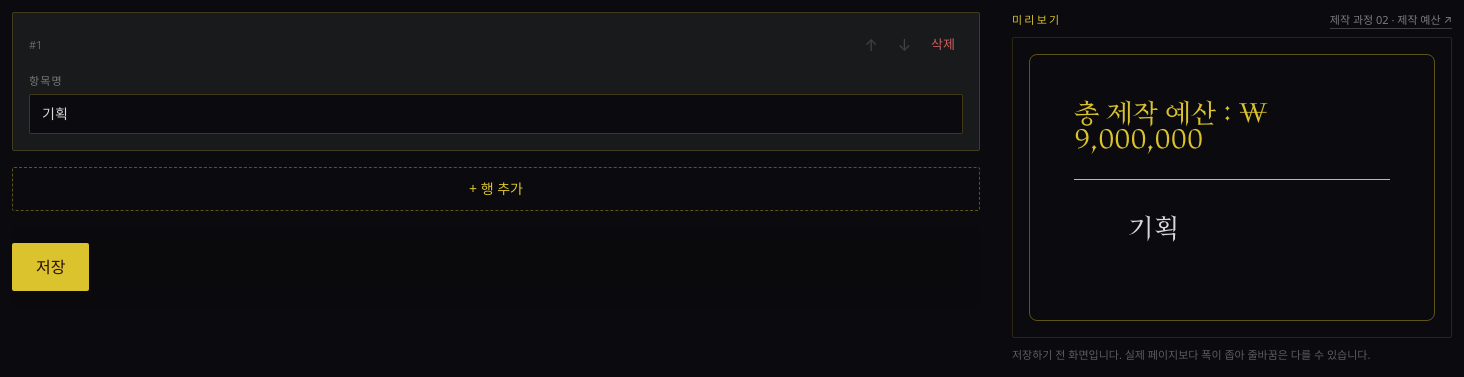
it: ListPreview — 편집 중인 값을 그대로 그린다 › 저장하지 않아도 입력한 값이 미리보기에 바로 나온다
Expected: the list item "기획" is shown, [1127,208,1179,245]
Step 1. Replace the text in the field with "무대 제작" → (496, 114), box [29,94,963,134]
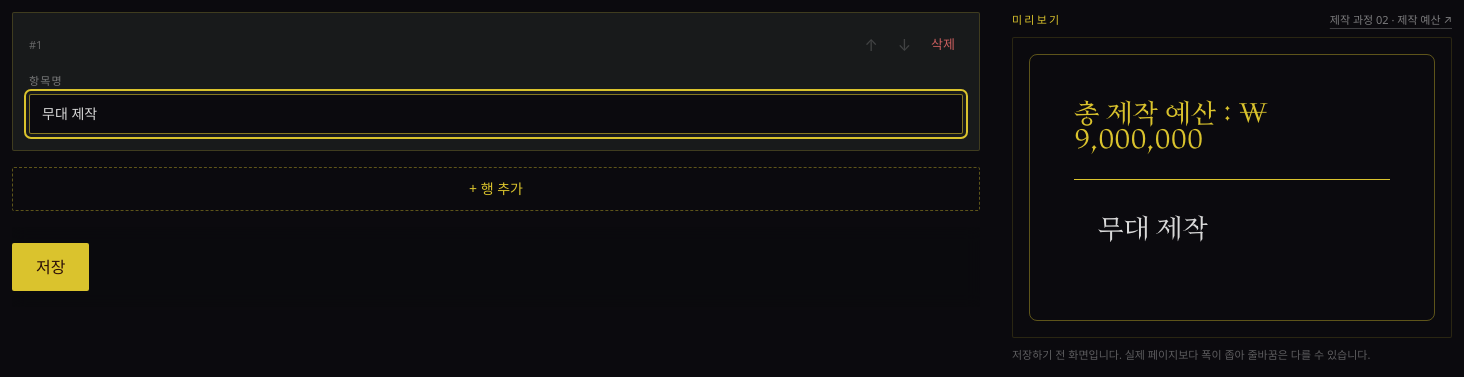
Expected: the list item "기획" is not shown
Expected: the list item "무대 제작" is shown, [1098,208,1208,245]
